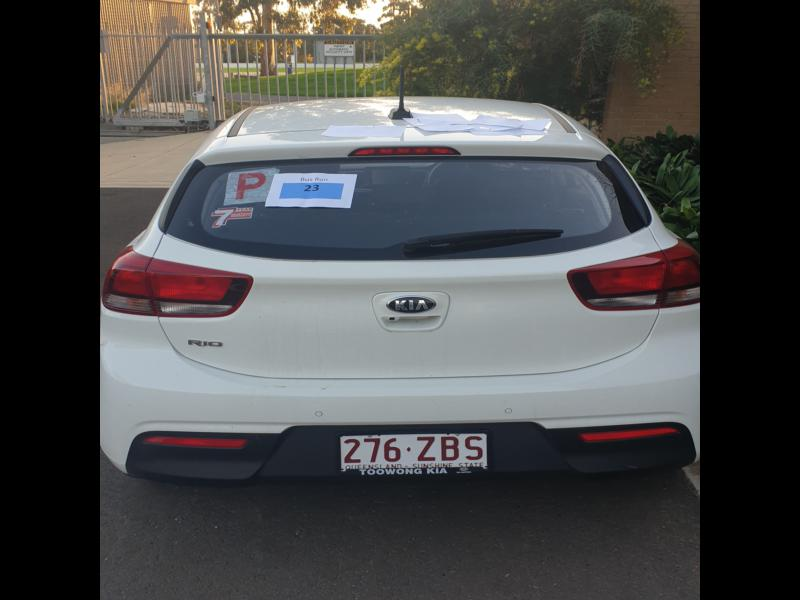BusRun: (278, 180, 346, 199)
PlateNo: (340, 433, 487, 472)
